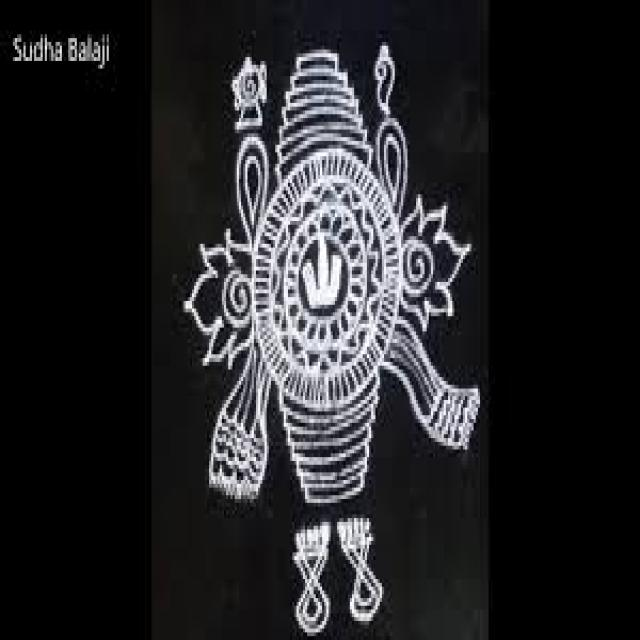rangoli: (181, 33, 484, 640)
